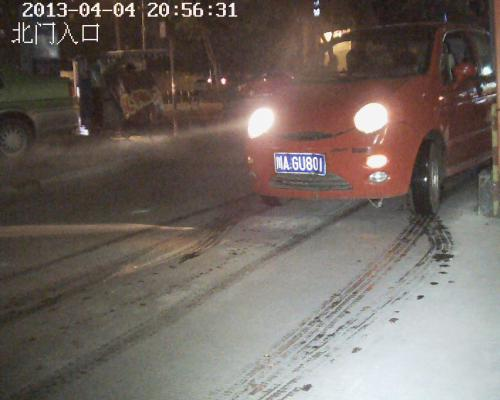Carplate: (272, 148, 330, 180)
